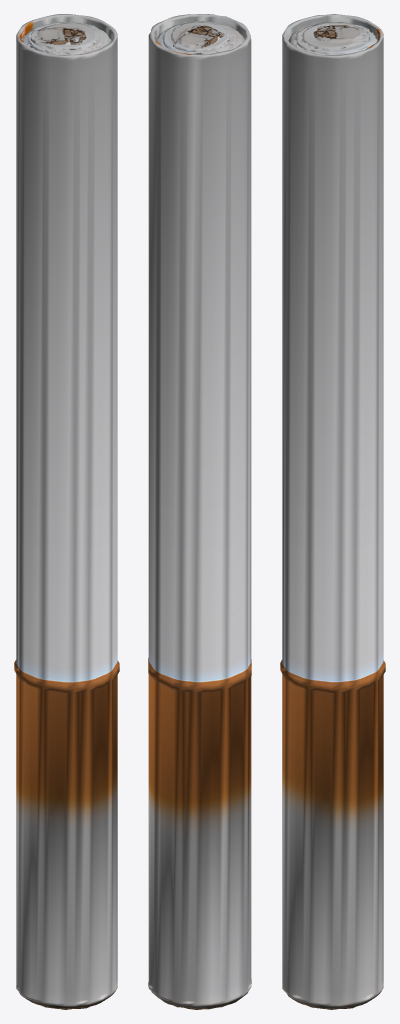
Rendered from tile44.glb.
3 renders of one model, left to right at view 1: azimuth 90°, elevation 25°; view 2: azimuth 150°, elevation 25°; view 3: azimuth 270°, elevation 25°, orthographic.
Parts seen in each view (by area): view 1: tripo_node_b92796e9-0af9-4905-bc3f-c1351b5c4277; view 2: tripo_node_b92796e9-0af9-4905-bc3f-c1351b5c4277; view 3: tripo_node_b92796e9-0af9-4905-bc3f-c1351b5c4277.
Part boxes in pixels (left/top/right/bottom): tripo_node_b92796e9-0af9-4905-bc3f-c1351b5c4277: left=14, top=14, right=119, bottom=1009; tripo_node_b92796e9-0af9-4905-bc3f-c1351b5c4277: left=148, top=14, right=251, bottom=1009; tripo_node_b92796e9-0af9-4905-bc3f-c1351b5c4277: left=280, top=14, right=385, bottom=1009.
Size of the model in its own units: 0.0996 by 0.998 by 0.0996.
1 material, 1 textured.
